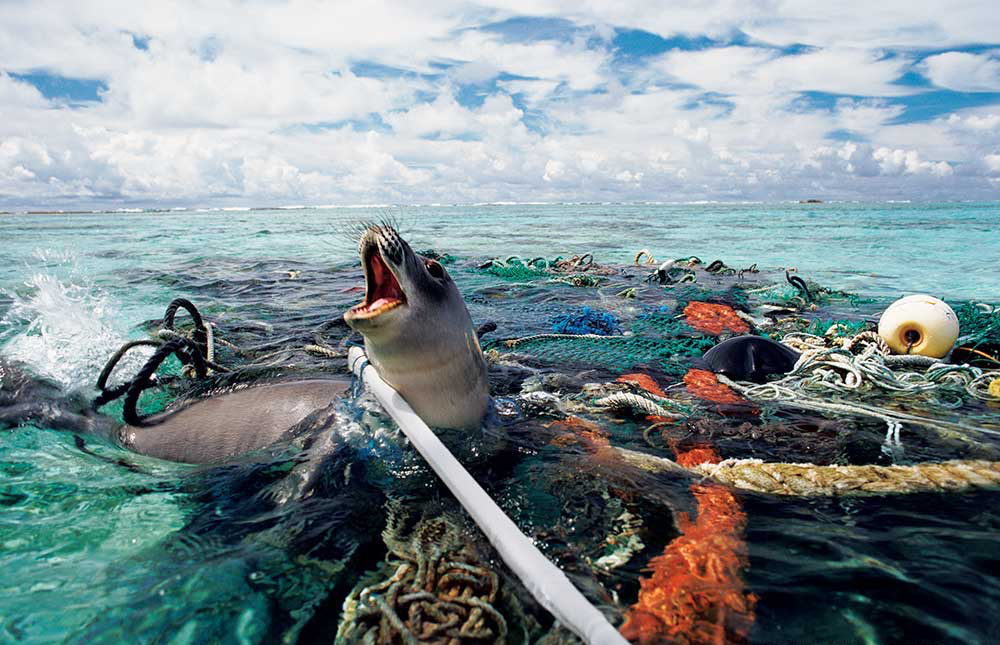Net: (498, 227, 998, 494), (613, 377, 765, 643), (94, 297, 263, 437), (348, 502, 503, 645)
Pipe: (358, 341, 650, 645)
Seal: (1, 211, 501, 486)
